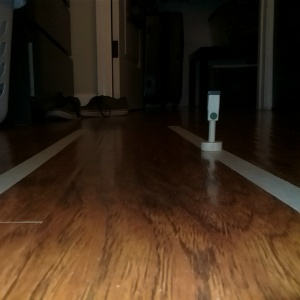traffic light green: (198, 87, 223, 154)
